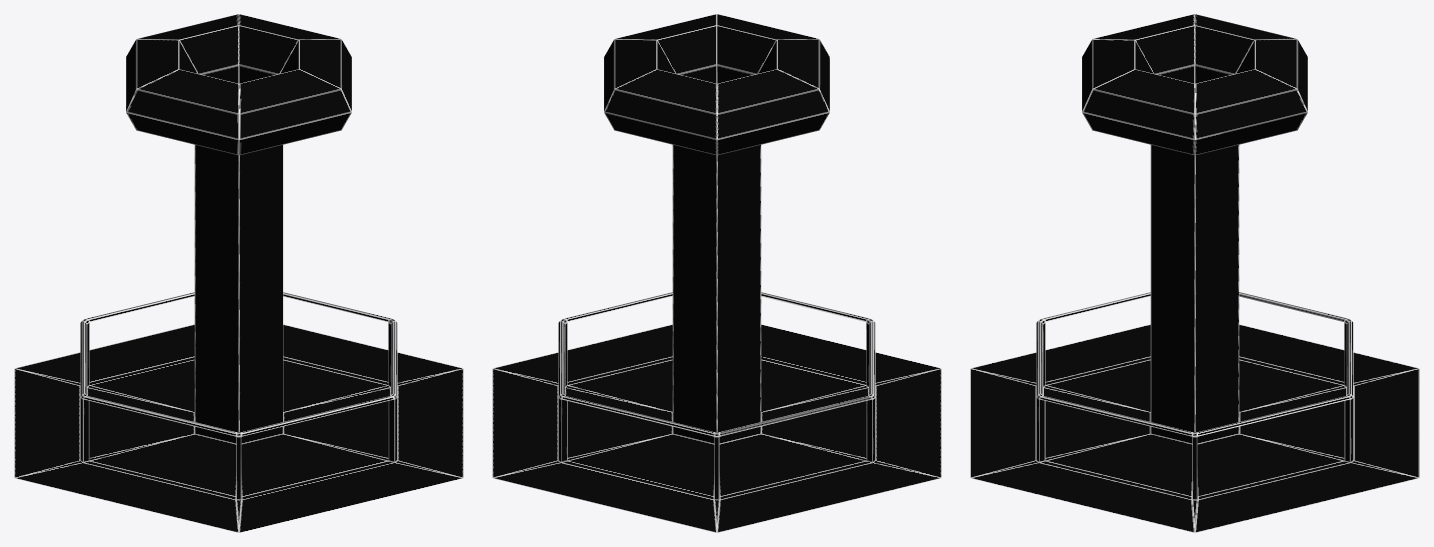
3 views of the same model, side by side, from view 1: azimuth 30°, elevation 25°; view 2: azimuth 150°, elevation 25°; view 3: azimuth 270°, elevation 25° (orthographic).
Parts seen in each view (by area): view 1: DD_09; view 2: DD_09; view 3: DD_09.
Boxes of the visible parts, bbox=[...] form: DD_09: bbox=[14, 14, 463, 532]; DD_09: bbox=[492, 14, 941, 532]; DD_09: bbox=[970, 14, 1419, 532].
Size of the model in its own units: 534 by 418 by 462.
Materials: 1 (1 with a texture image).
